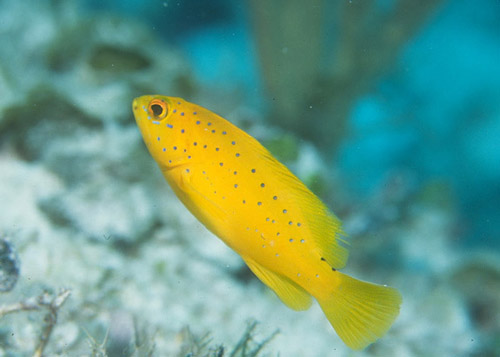Cephalopholis_fulvaw: (114, 85, 442, 349)
